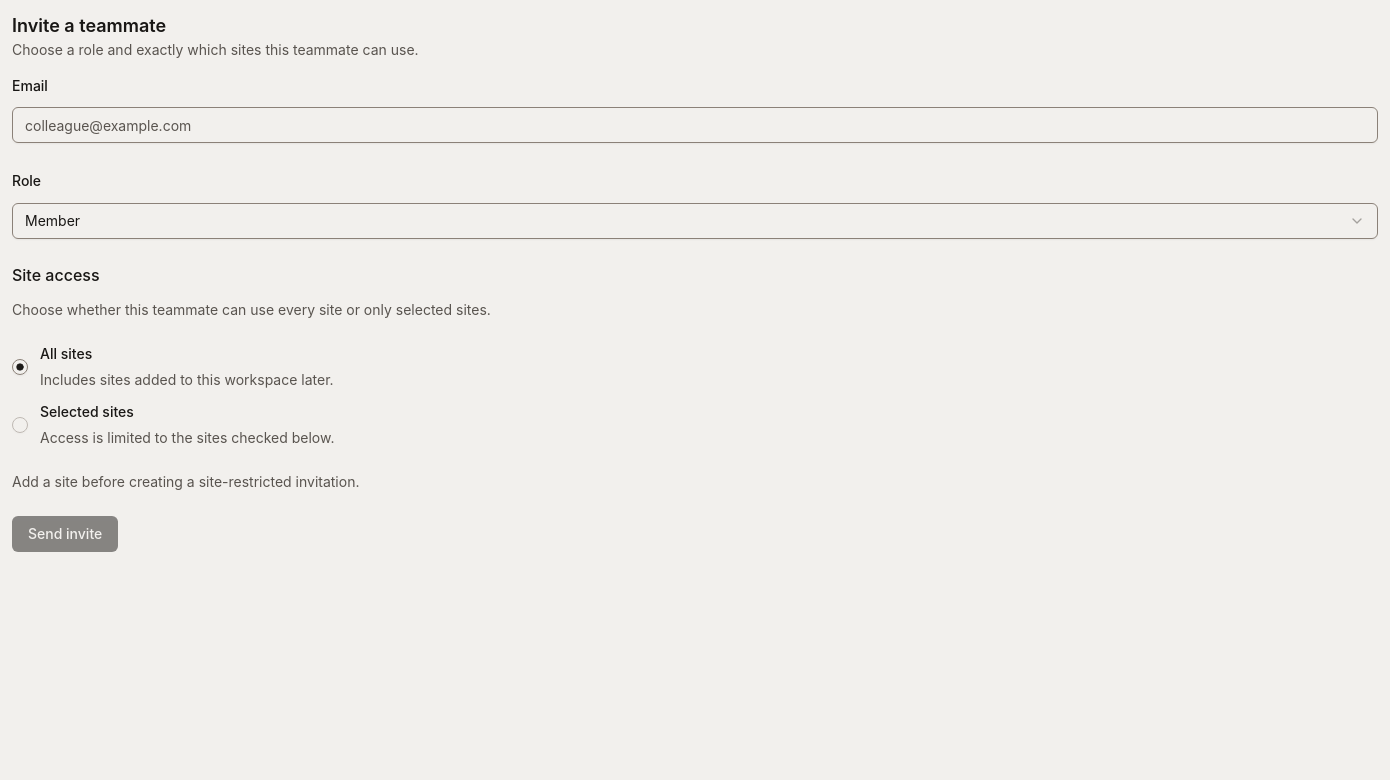
InviteMemberForm › surfaces the server error inline
Type "friend@example.com" into the field labelled "Email" at (695, 125), box 12,107 -> 1378,143
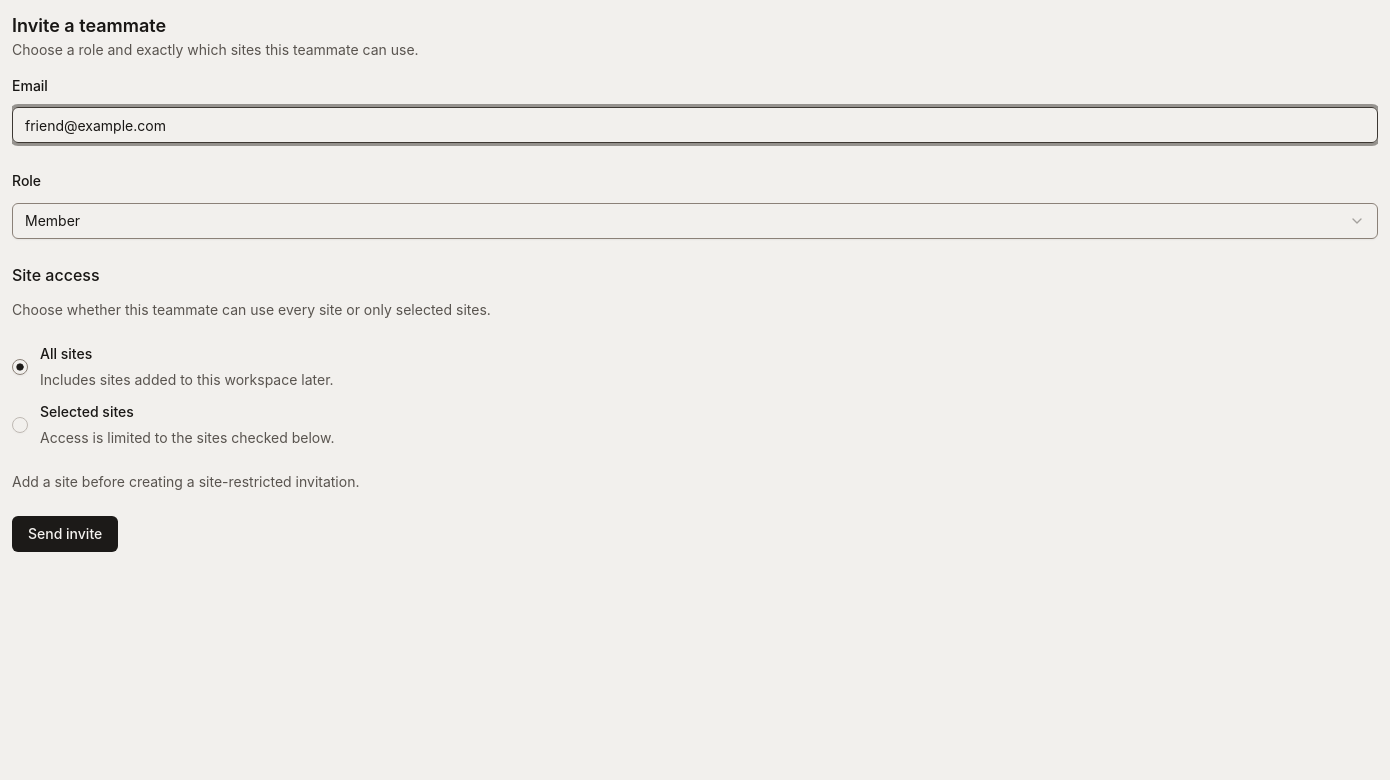
Click the button "Send invite" at (65, 534), box 12,516 -> 118,552
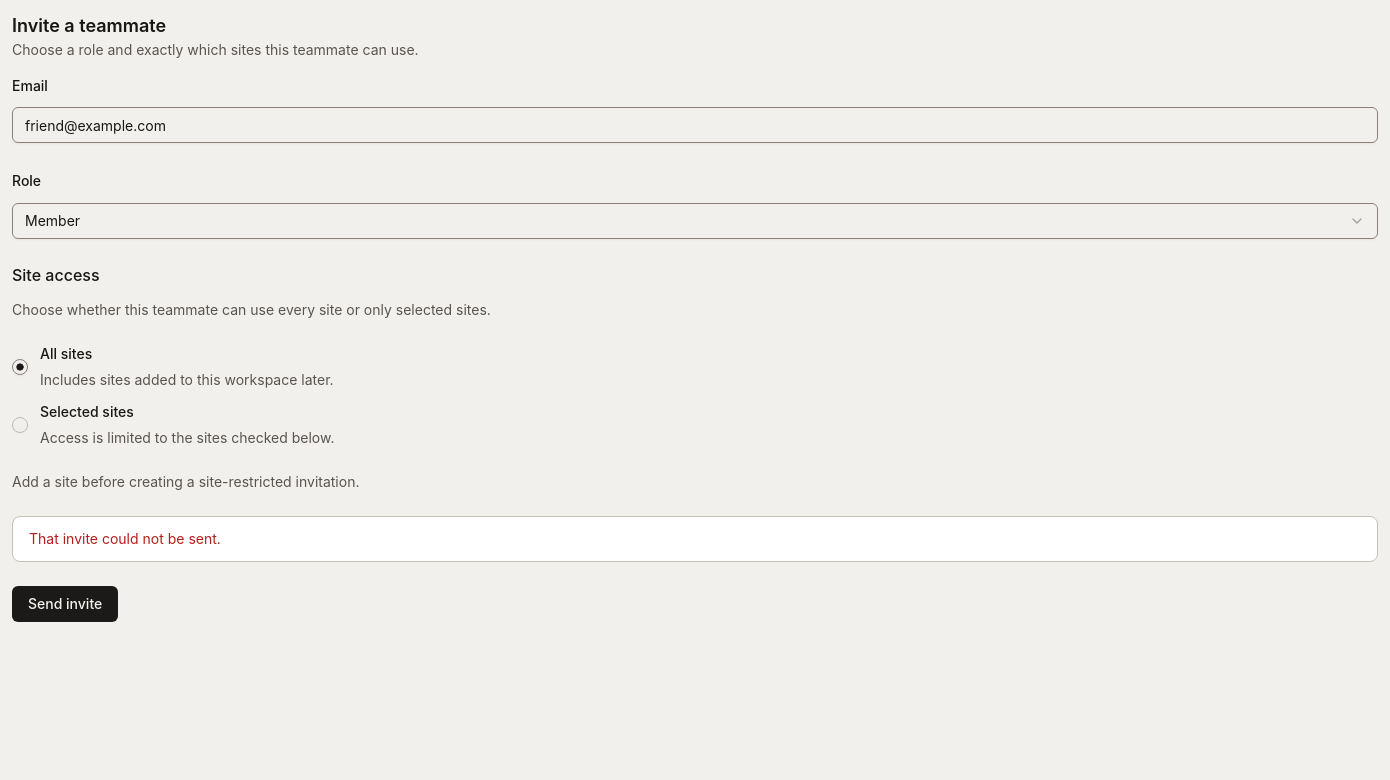
Now the message "That invite could not be sent." is shown, box 12,516 -> 1378,562
